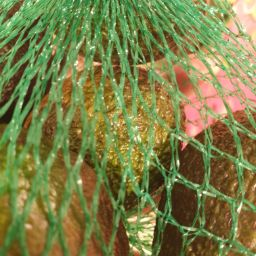Avocado: (9, 88, 120, 256), (57, 57, 188, 196), (173, 108, 256, 256)
